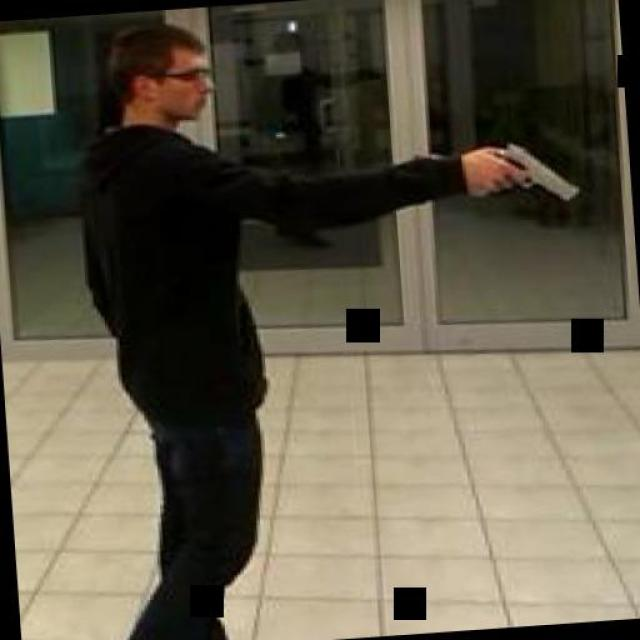gun: (464, 131, 576, 205)
